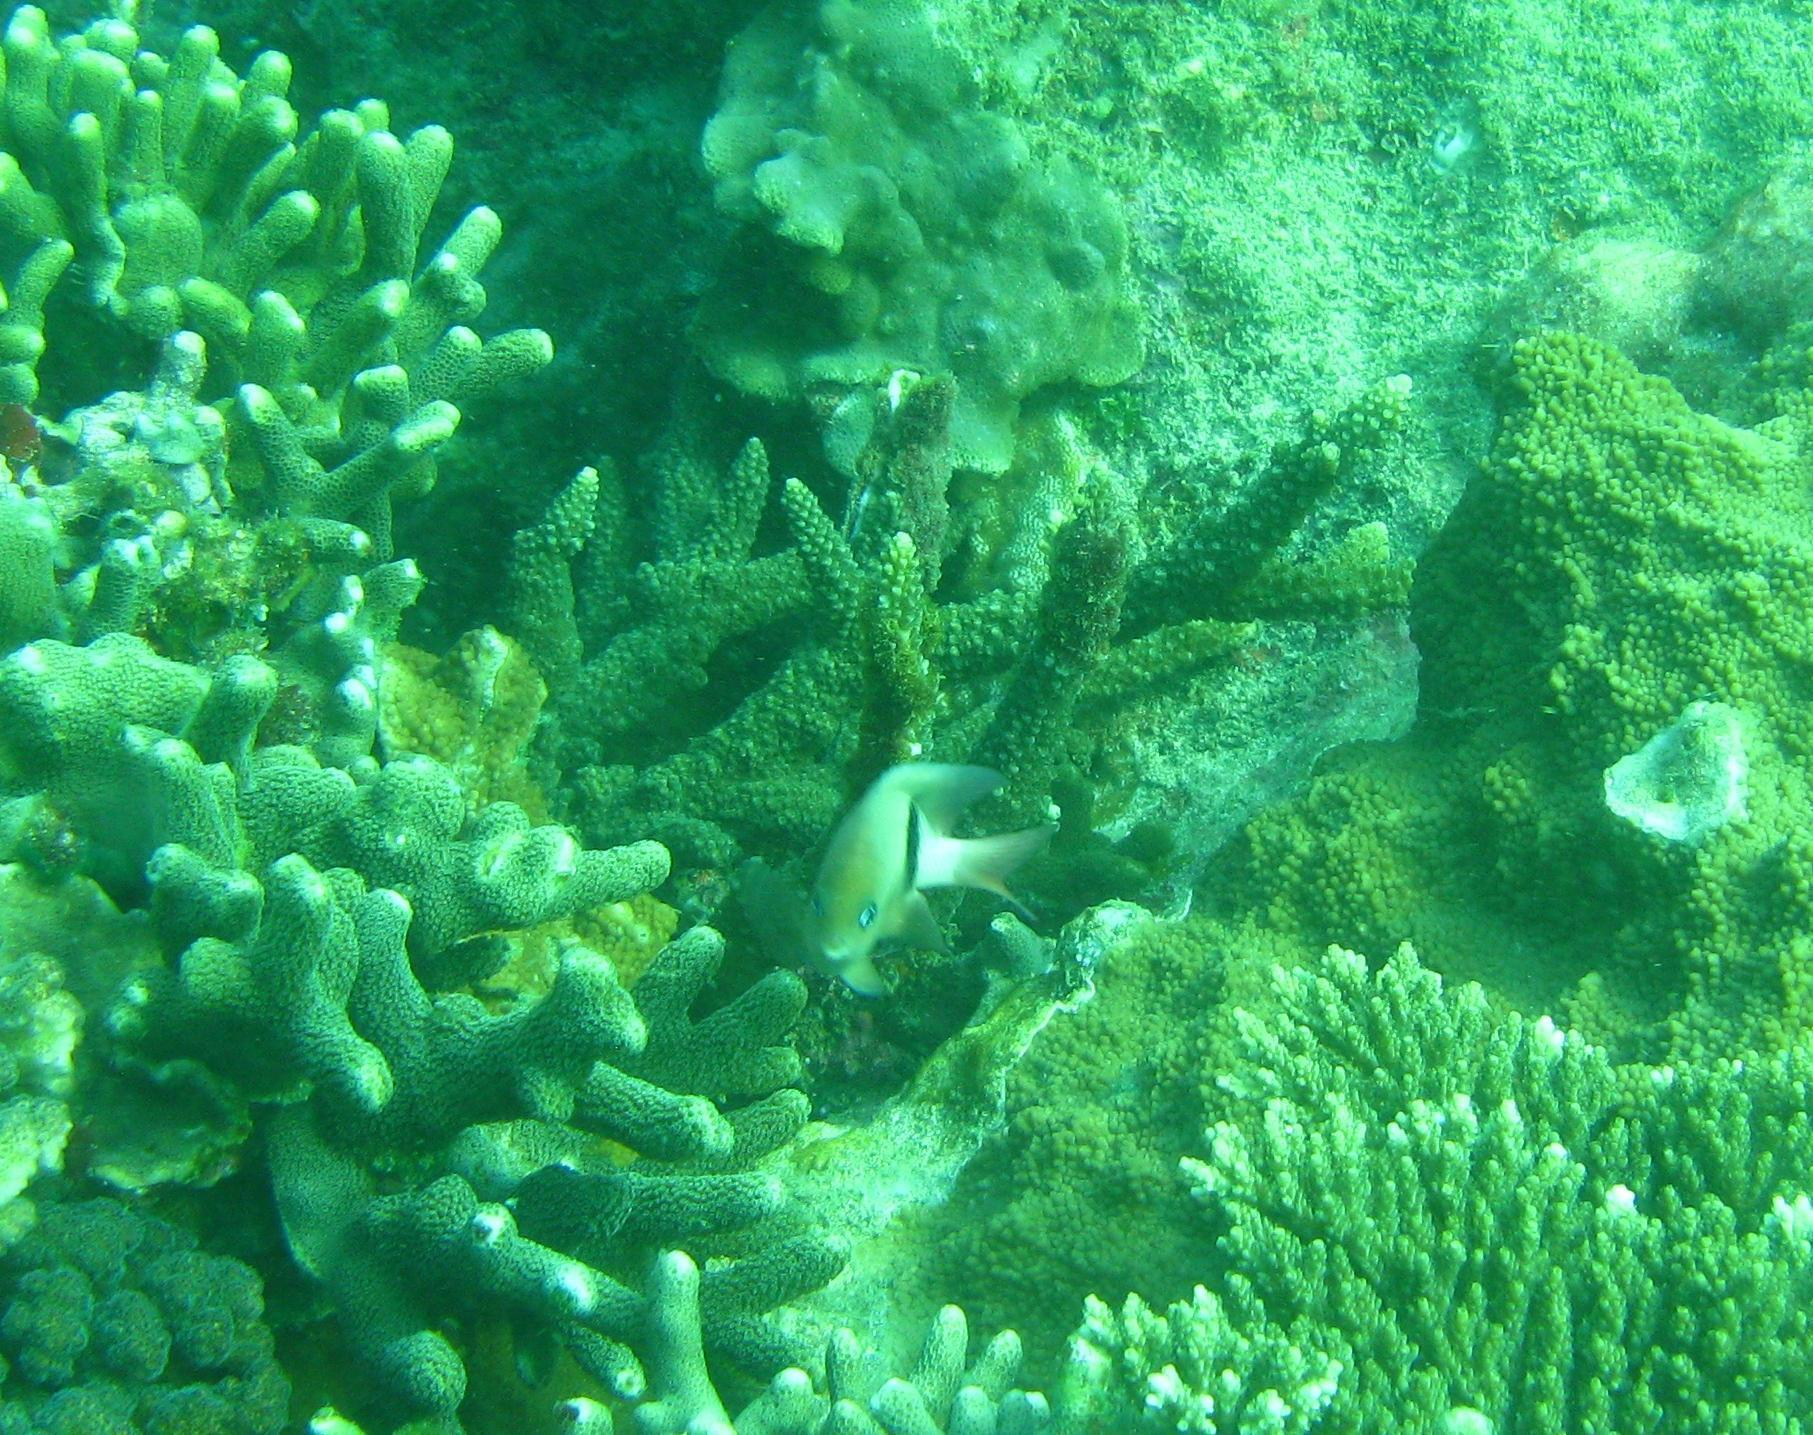Fish: (755, 726, 1092, 1007)
